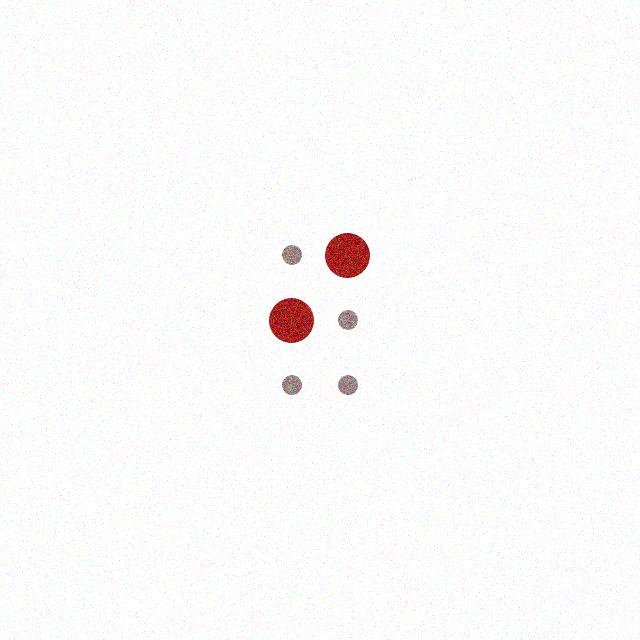I: (266, 228, 373, 415)
